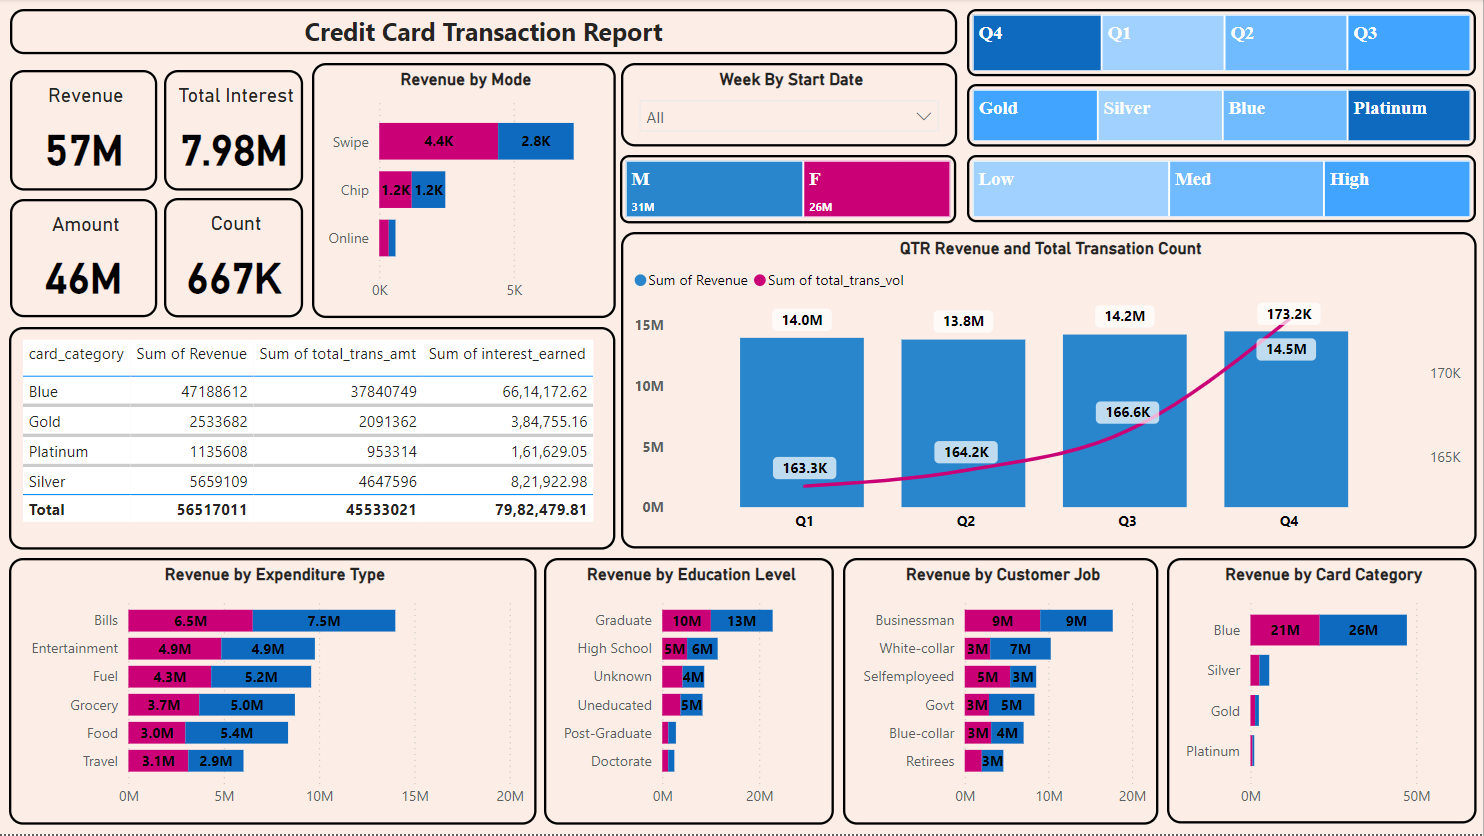

What the dashboard file says about the page in this screenshot:
{"tool":"powerbi","page":{"name":"Credit_Card_Transactions_Report","canvas":[1280,720],"ordinal":0},"visuals":[{"type":"textbox","box":[9.2,8.3,816.6,39.5],"z":0},{"type":"lineStackedColumnComboChart","title":"QTR Revenue and Total Transation Count","fields":{"Category":["public customer_card_transactions.qtr"],"Y":["Sum(public customer_card_transactions.Revenue)"],"Y2":["Sum(public customer_card_transactions.total_trans_vol)"]},"box":[536.2,201.3,737.5,273.3],"z":1000},{"type":"barChart","title":"Revenue by Expenditure Type","fields":{"Category":["public customer_card_transactions.exp_type"],"Y":["Sum(public customer_card_transactions.Revenue)"],"Series":["public customer_profile.gender"]},"box":[8.3,482,454.8,229.5],"z":2000},{"type":"barChart","title":"Revenue by Education Level","fields":{"Y":["Sum(public customer_card_transactions.Revenue)"],"Category":["public customer_profile.education_level"],"Series":["public customer_profile.gender"]},"box":[470.5,482,250.4,229.5],"z":3000},{"type":"barChart","title":"Revenue by Customer Job","fields":{"Y":["Sum(public customer_card_transactions.Revenue)"],"Category":["public customer_profile.customer_job"],"Series":["public customer_profile.gender"]},"box":[728.1,482,272.3,229.5],"z":4000},{"type":"barChart","title":"Revenue by Card Category","fields":{"Category":["public customer_card_transactions.card_category"],"Y":["Sum(public customer_card_transactions.Revenue)"],"Series":["public customer_profile.gender"]},"box":[1007.4,482.2,266.5,229.4],"z":5000},{"type":"barChart","title":"Revenue by Mode","fields":{"Y":["CountNonNull(public customer_card_transactions.card_category)"],"Category":["public customer_card_transactions.use_chip"],"Series":["public customer_profile.gender"]},"box":[269.8,55.1,261.5,220.2],"z":6000},{"type":"tableEx","fields":{"Values":["public customer_card_transactions.card_category","Sum(public customer_card_transactions.Revenue)","Sum(public customer_card_transactions.total_trans_amt)","Sum(public customer_card_transactions.interest_earned)"]},"box":[8.3,282.6,523,191.8],"z":7000},{"type":"card","title":"Revenue","fields":{"Values":["Sum(public customer_card_transactions.Revenue)"]},"box":[9.2,61.5,126.6,103.7],"z":8000},{"type":"card","title":"Total Interest","fields":{"Values":["Sum(public customer_card_transactions.interest_earned)"]},"box":[142.2,61.5,120.2,103.7],"z":9000},{"type":"card","title":"Amount","fields":{"Values":["Sum(public customer_card_transactions.total_trans_amt)"]},"box":[9.2,172.5,126.6,101.8],"z":10000},{"type":"card","title":"Count","fields":{"Values":["Sum(public customer_card_transactions.total_trans_vol)"]},"box":[142.2,171.6,120.2,102.8],"z":11000},{"type":"slicer","title":"Week By Start Date","fields":{"Values":["public customer_card_transactions.week_start_date"]},"box":[536.2,55.3,290,72],"z":12000},{"type":"treemap","fields":{"Group":["public customer_card_transactions.qtr"],"Values":["Count(public customer_card_transactions.Revenue)"]},"box":[834.6,8.3,439.2,58.4],"z":13000},{"type":"treemap","fields":{"Group":["public customer_profile.gender"],"Values":["Sum(public customer_card_transactions.Revenue)"]},"box":[535.9,134.9,289.9,58.7],"z":14000},{"type":"treemap","fields":{"Values":["Avg(public customer_card_transactions.client_num)"],"Group":["public customer_card_transactions.card_category"]},"box":[834.6,73,439.2,54.2],"z":15000},{"type":"treemap","fields":{"Group":["public customer_profile.Income_Group"],"Values":["CountNonNull(public customer_card_transactions.client_num)"]},"box":[834.6,134.6,439.2,58.4],"z":16000}]}

Visuals, with their boxes in screenshot pixels (x1, y1, x2, y2), scaled from the page's 1280x720 canvas onto the 1484x836 screenshot:
textbox: [left=11, top=10, right=957, bottom=56]
"QTR Revenue and Total Transation Count" lineStackedColumnComboChart: [left=622, top=234, right=1477, bottom=551]
"Revenue by Expenditure Type" barChart: [left=10, top=560, right=537, bottom=826]
"Revenue by Education Level" barChart: [left=545, top=560, right=836, bottom=826]
"Revenue by Customer Job" barChart: [left=844, top=560, right=1160, bottom=826]
"Revenue by Card Category" barChart: [left=1168, top=560, right=1477, bottom=826]
"Revenue by Mode" barChart: [left=313, top=64, right=616, bottom=320]
tableEx - public customer_card_transactions.card_category x Sum(public customer_card_transactions.Revenue): [left=10, top=328, right=616, bottom=551]
"Revenue" card: [left=11, top=71, right=157, bottom=192]
"Total Interest" card: [left=165, top=71, right=304, bottom=192]
"Amount" card: [left=11, top=200, right=157, bottom=318]
"Count" card: [left=165, top=199, right=304, bottom=319]
"Week By Start Date" slicer: [left=622, top=64, right=958, bottom=148]
treemap - public customer_card_transactions.qtr x Count(public customer_card_transactions.Revenue): [left=968, top=10, right=1477, bottom=77]
treemap - public customer_profile.gender x Sum(public customer_card_transactions.Revenue): [left=621, top=157, right=957, bottom=225]
treemap - Avg(public customer_card_transactions.client_num) x public customer_card_transactions.card_category: [left=968, top=85, right=1477, bottom=148]
treemap - public customer_profile.Income_Group x CountNonNull(public customer_card_transactions.client_num): [left=968, top=156, right=1477, bottom=224]
